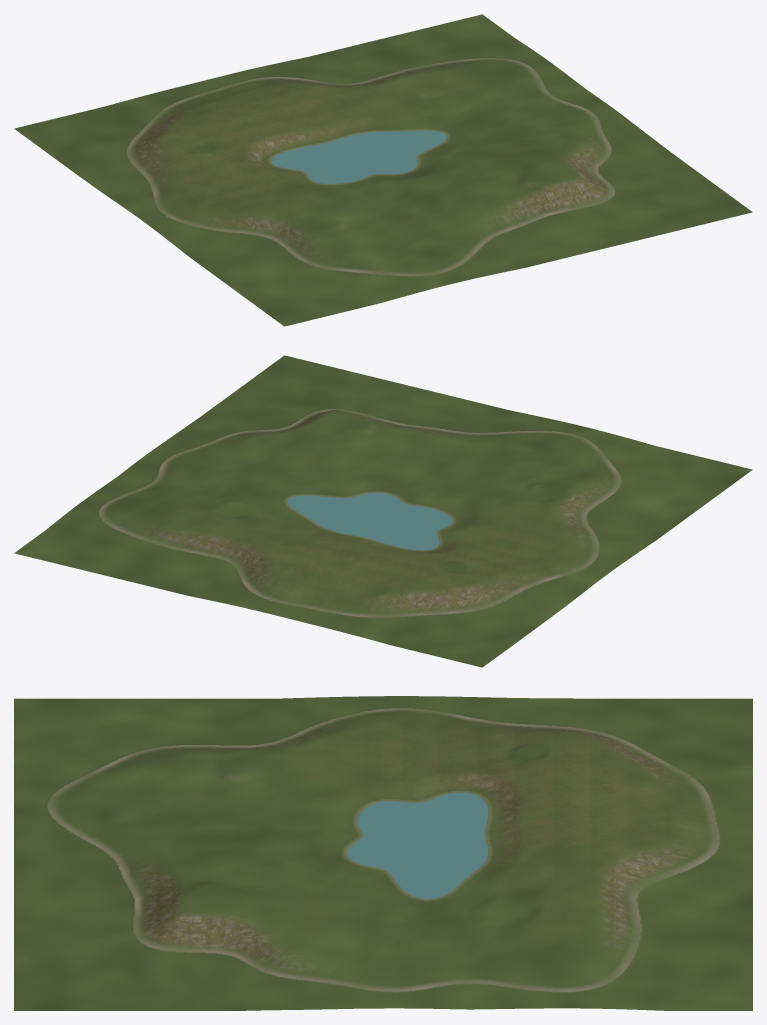
Rendered from island_landscape.glb.
3 renders of one model, top to bottom at view 1: azimuth 30°, elevation 25°; view 2: azimuth 150°, elevation 25°; view 3: azimuth 270°, elevation 25°, orthographic. The views are drawn at different scales.
Parts seen in each view (by area): view 1: Terrain_4km_shoreline_8m_grid, Lake_water_separate; view 2: Terrain_4km_shoreline_8m_grid, Lake_water_separate; view 3: Terrain_4km_shoreline_8m_grid, Lake_water_separate.
Part boxes in pixels (x1,y1,x2,y2): Terrain_4km_shoreline_8m_grid: [14, 14, 752, 326]; Lake_water_separate: [271, 130, 446, 183]; Terrain_4km_shoreline_8m_grid: [14, 355, 752, 667]; Lake_water_separate: [287, 493, 452, 550]; Terrain_4km_shoreline_8m_grid: [14, 696, 752, 1010]; Lake_water_separate: [347, 792, 488, 899].
Bounding box in the file's own units: 4400 × 159 × 4400.
2 materials, 1 textured.
